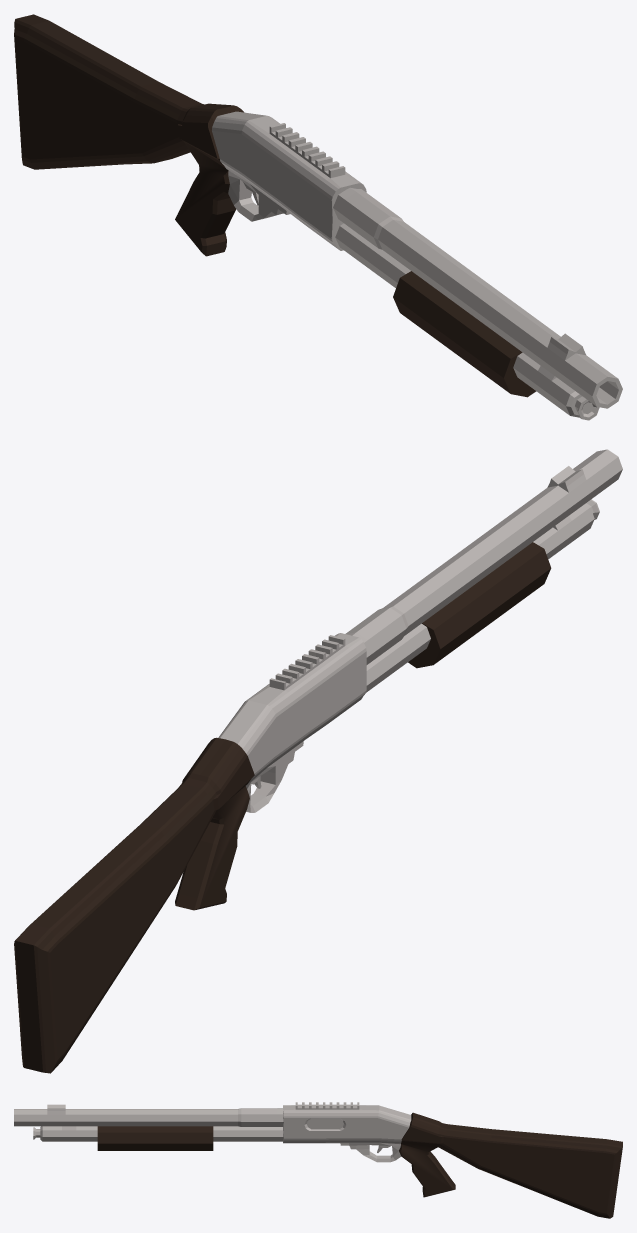
File: Shotgun.fbx
3 renders of one model, top to bottom at view 1: azimuth 30°, elevation 25°; view 2: azimuth 150°, elevation 25°; view 3: azimuth 270°, elevation 25°, orthographic. The views are drawn at different scales.
Parts seen in each view (by area): view 1: Body, UpperBarrel, Pump, LowerBarrel; view 2: Body, UpperBarrel, Pump, LowerBarrel; view 3: Body, UpperBarrel, Pump, LowerBarrel.
Boxes of the visible parts, x1,y1,x2,y2 form: Body: [14, 14, 366, 256]; UpperBarrel: [333, 187, 622, 408]; Pump: [393, 271, 536, 397]; LowerBarrel: [335, 223, 599, 420]; Body: [14, 633, 366, 1073]; UpperBarrel: [345, 449, 622, 664]; Pump: [408, 542, 551, 668]; LowerBarrel: [366, 499, 599, 692]; Body: [283, 1102, 622, 1218]; UpperBarrel: [14, 1104, 283, 1126]; Pump: [97, 1126, 213, 1150]; LowerBarrel: [33, 1126, 283, 1141].
Size of the model in its own units: 7.12 by 30.49 by 151.
